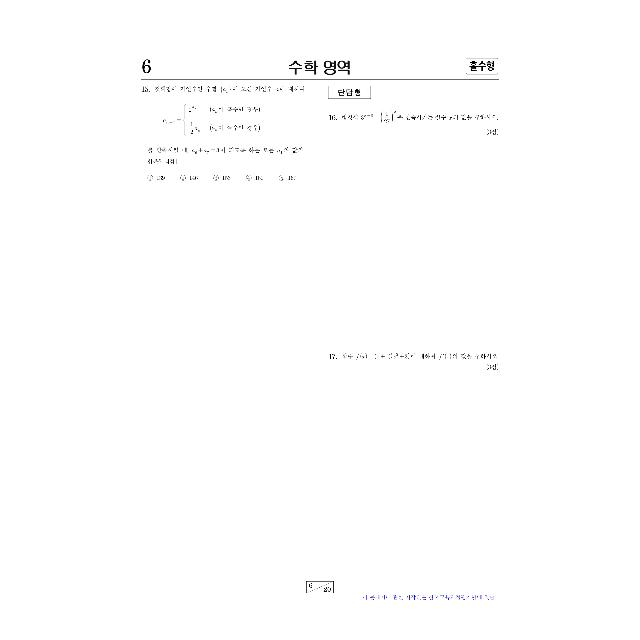multiple: (138, 82, 314, 188)
short: (322, 344, 512, 380), (326, 108, 507, 144)
